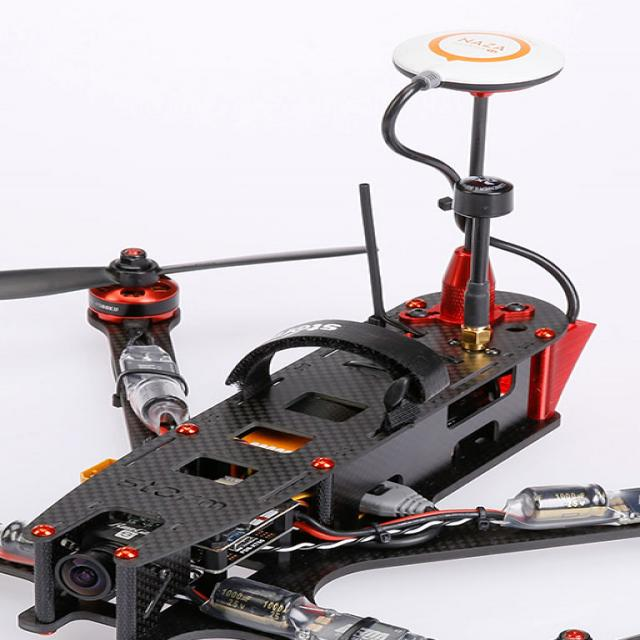drone: (0, 245, 640, 640)
